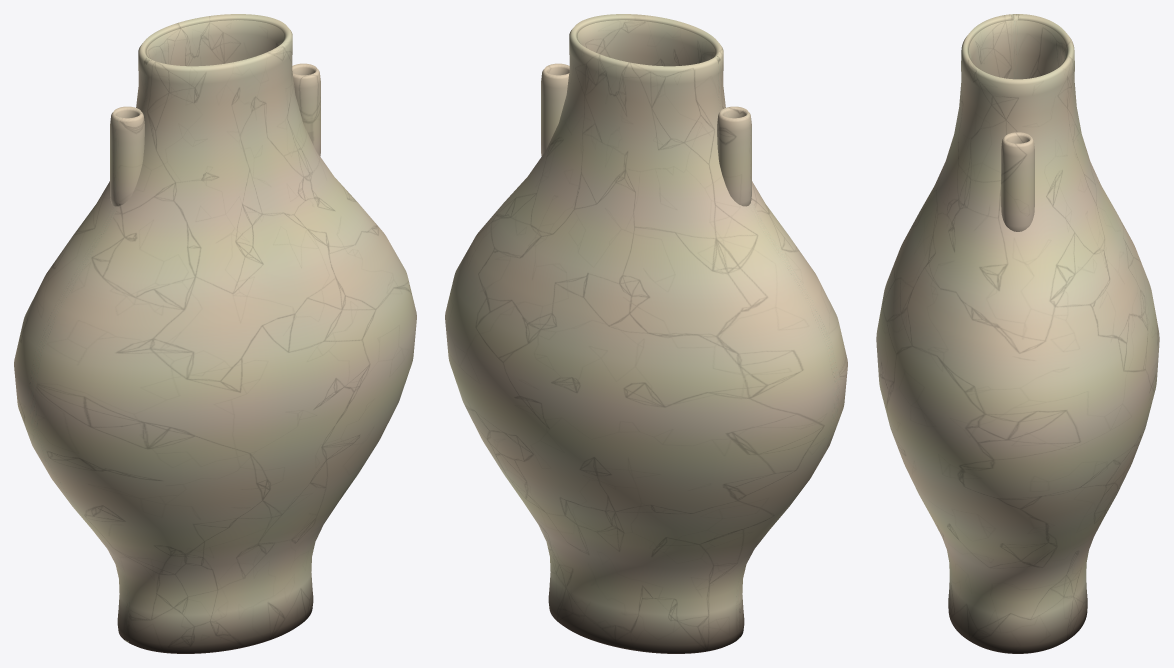
File: SongGeYao_CrackleVase_Master.glb
The picture shows the model from 3 angles, left to right: view 1: azimuth 30°, elevation 25°; view 2: azimuth 150°, elevation 25°; view 3: azimuth 270°, elevation 25°; orthographic projection. The views are drawn at different scales.
Parts seen in each view (by area): view 1: SongGeYao_CrackleVase_Master; view 2: SongGeYao_CrackleVase_Master; view 3: SongGeYao_CrackleVase_Master.
Boxes of the visible parts, x1=… form: SongGeYao_CrackleVase_Master: x1=14, y1=14, x2=416, y2=653; SongGeYao_CrackleVase_Master: x1=445, y1=14, x2=847, y2=653; SongGeYao_CrackleVase_Master: x1=876, y1=14, x2=1159, y2=653.
Size of the model in its own units: 0.1538 by 0.2271 by 0.103.
1 material, 1 textured.
